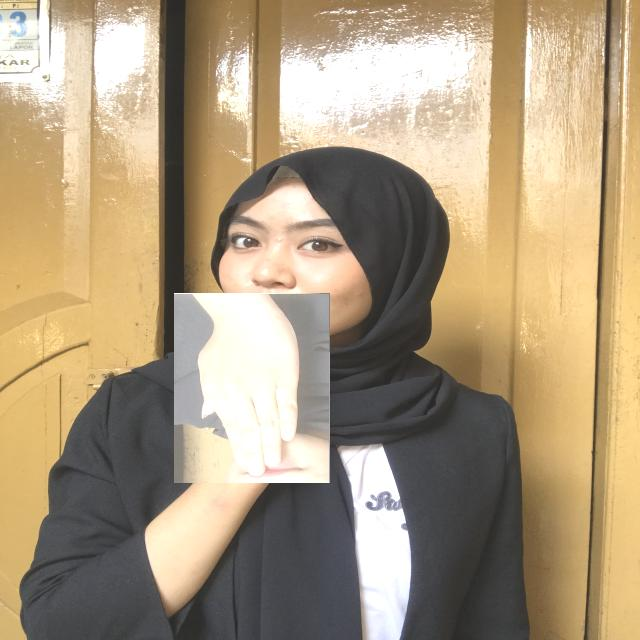ganteng: (173, 293, 329, 483)
